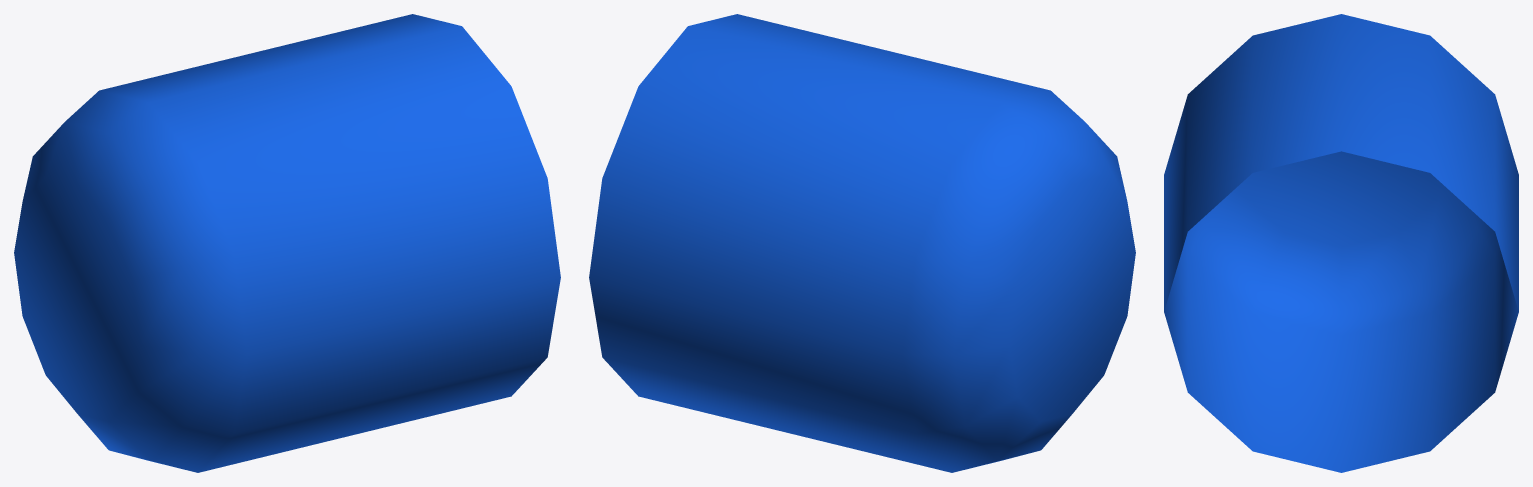
Rendered from Water_half_left.fbx.
The picture shows the model from 3 angles, left to right: view 1: azimuth 30°, elevation 25°; view 2: azimuth 150°, elevation 25°; view 3: azimuth 270°, elevation 25°; orthographic projection. The views are drawn at different scales.
Visible parts, largest first — view 1: Circle.001; view 2: Circle.001; view 3: Circle.001.
Boxes of the visible parts, bbox=[...] form: Circle.001: bbox=[14, 14, 560, 472]; Circle.001: bbox=[589, 14, 1135, 472]; Circle.001: bbox=[1164, 14, 1518, 472].
Size of the model in its own units: 32.23 by 28.66 by 28.66.
